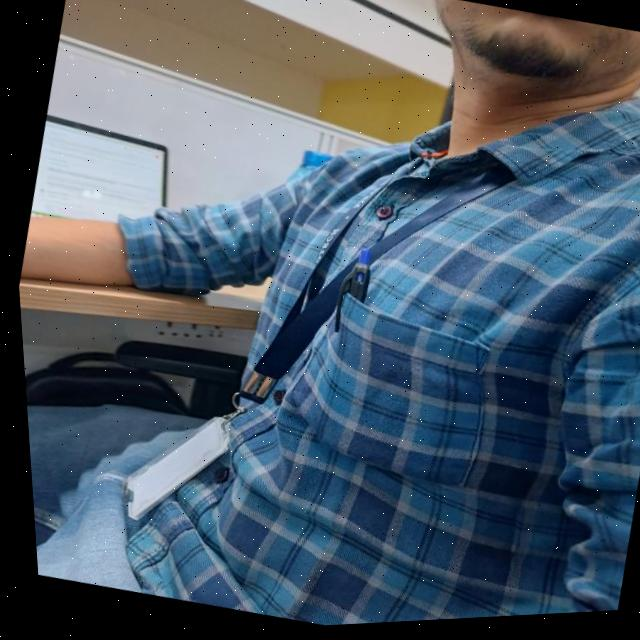id_card: (86, 79, 617, 613)
